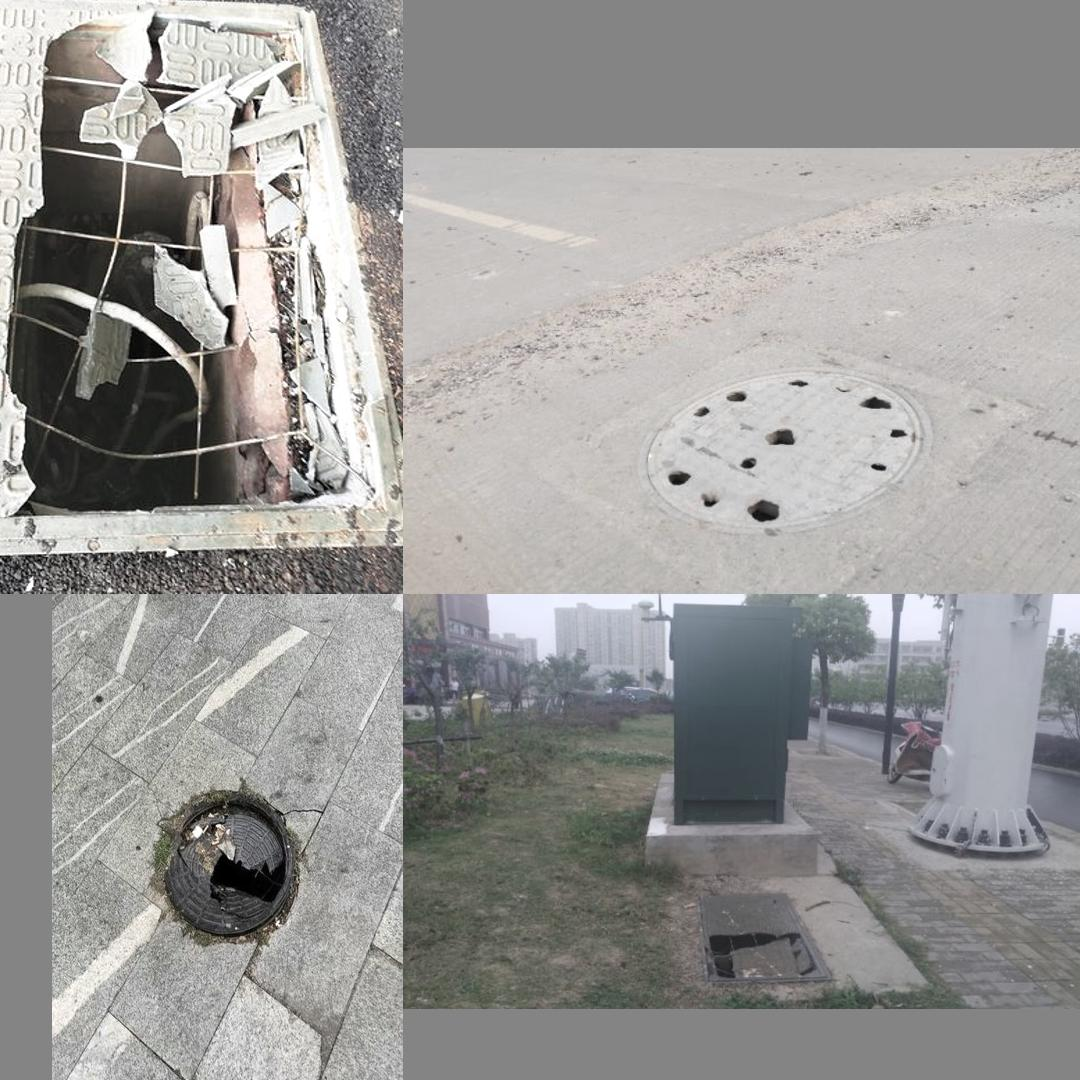broke: (0, 0, 390, 573), (637, 367, 930, 529), (143, 778, 322, 957), (696, 889, 834, 986)
